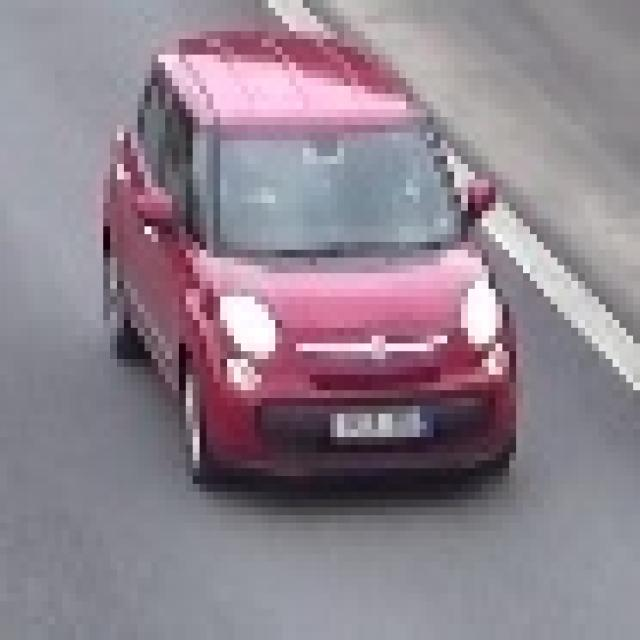maroon: (106, 18, 518, 485)
